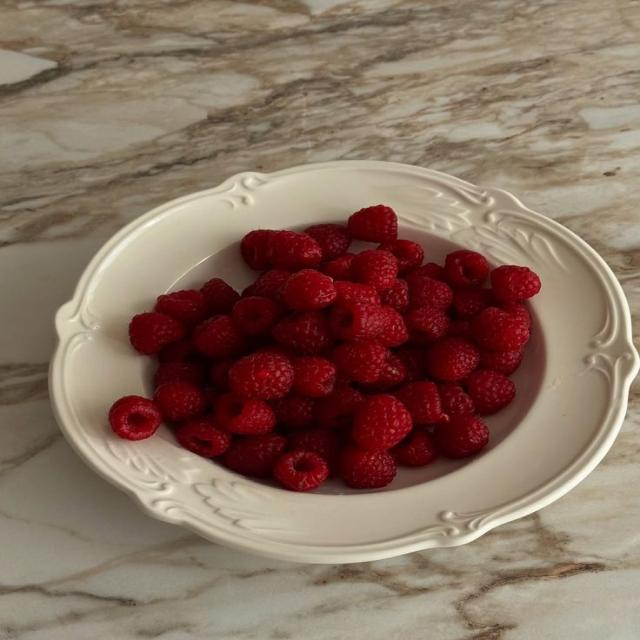raspberry: (353, 394, 413, 450), (229, 353, 293, 399), (224, 434, 286, 477), (273, 311, 333, 354), (214, 394, 275, 434), (473, 307, 529, 350), (328, 301, 387, 341), (176, 415, 232, 457), (333, 341, 389, 383), (109, 396, 162, 440), (394, 382, 448, 425), (340, 448, 396, 489), (129, 313, 185, 354), (427, 337, 479, 381), (433, 416, 488, 457), (464, 370, 515, 414), (288, 429, 340, 472), (267, 231, 322, 271), (194, 316, 246, 358), (274, 451, 328, 491), (284, 270, 336, 311), (154, 382, 206, 421), (232, 296, 284, 335), (316, 387, 364, 428), (347, 205, 397, 243), (155, 290, 207, 326), (352, 250, 397, 290), (491, 266, 540, 302), (292, 357, 336, 397), (404, 307, 450, 345), (361, 355, 406, 393), (391, 429, 437, 466), (305, 224, 351, 260), (406, 275, 453, 310), (445, 250, 488, 287), (378, 240, 424, 274), (242, 269, 290, 301), (271, 394, 314, 428), (200, 278, 239, 315), (240, 230, 275, 270), (453, 286, 493, 319), (376, 307, 408, 347), (154, 362, 205, 387), (439, 383, 474, 416), (394, 346, 426, 381), (480, 349, 523, 374), (334, 281, 380, 304), (158, 337, 198, 363), (380, 279, 408, 313), (320, 252, 354, 280), (499, 303, 531, 330), (210, 359, 235, 390), (407, 263, 444, 281), (254, 344, 296, 359), (447, 320, 473, 340), (203, 388, 222, 409)
